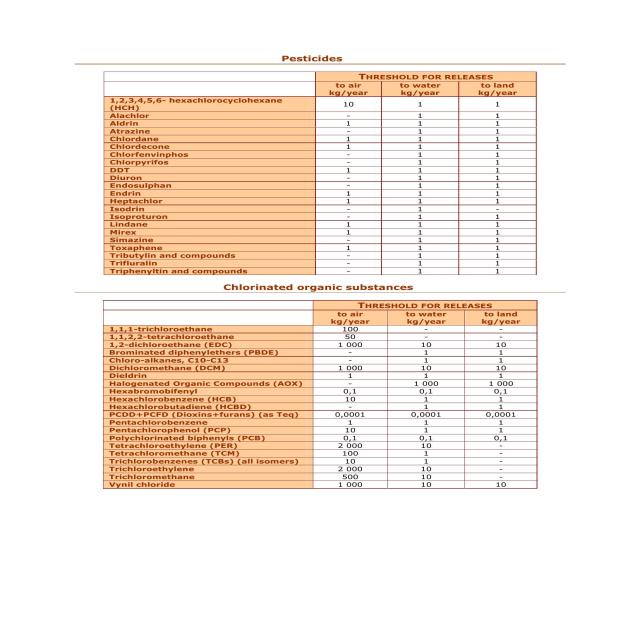table: (110, 72, 516, 273), (108, 301, 520, 487)
